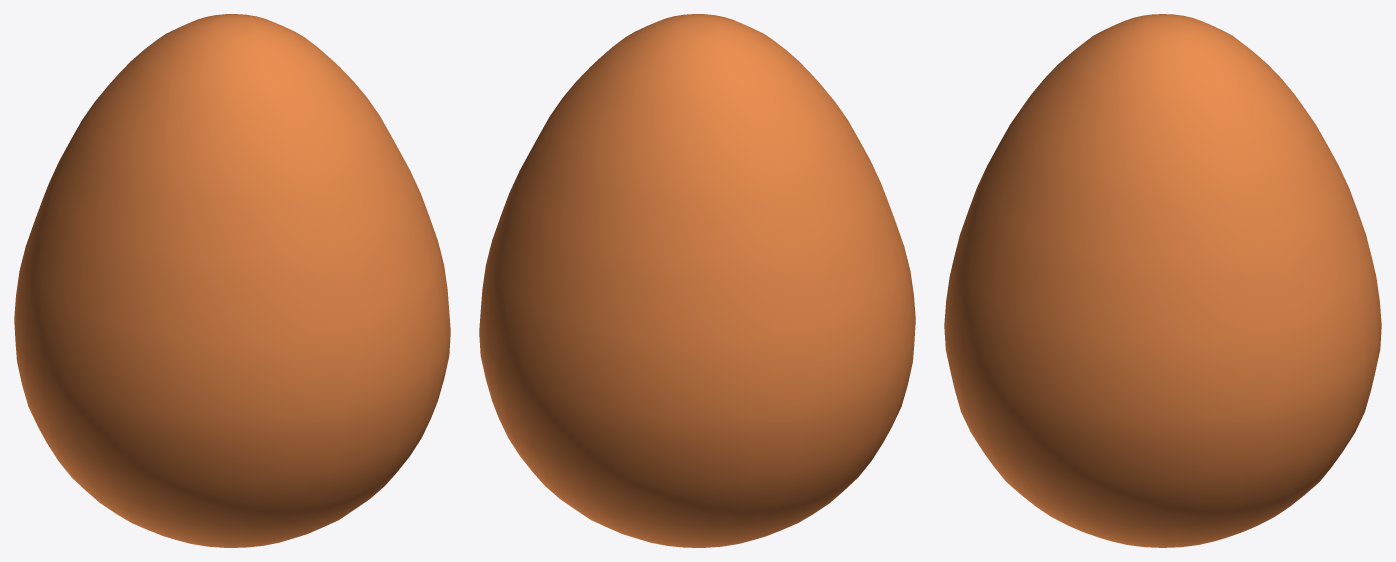
Rendered from Egg003.fbx.
3 renders of one model, left to right at view 1: azimuth 30°, elevation 25°; view 2: azimuth 150°, elevation 25°; view 3: azimuth 270°, elevation 25°, orthographic.
Parts seen in each view (by area): view 1: Sphere.005; view 2: Sphere.005; view 3: Sphere.005.
Part boxes in pixels (bbox=[...]): Sphere.005: bbox=[14, 14, 450, 547]; Sphere.005: bbox=[479, 14, 915, 547]; Sphere.005: bbox=[944, 14, 1381, 547].
Bounding box in the file's own units: 31.16 × 39.56 × 31.16.
